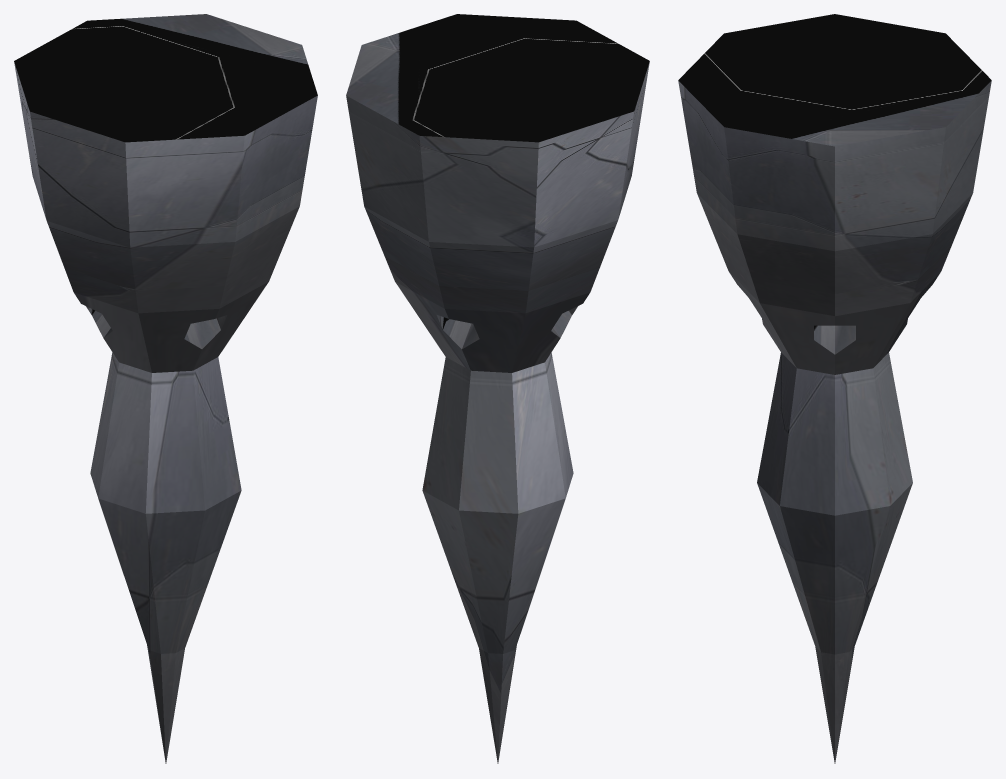
File: BOSS_base (1).fbx
The picture shows the model from 3 angles, left to right: view 1: azimuth 30°, elevation 25°; view 2: azimuth 150°, elevation 25°; view 3: azimuth 270°, elevation 25°; orthographic projection.
Parts seen in each view (by area): view 1: polySurface3260; view 2: polySurface3260; view 3: polySurface3260.
Boxes of the visible parts, box(x1,y1,x2,y2) form: polySurface3260: box(14, 14, 317, 763); polySurface3260: box(346, 14, 649, 763); polySurface3260: box(678, 14, 991, 763).
Bounding box in the file's own units: 4.86 × 11.71 × 4.86.
Materials: 1 (1 with a texture image).
